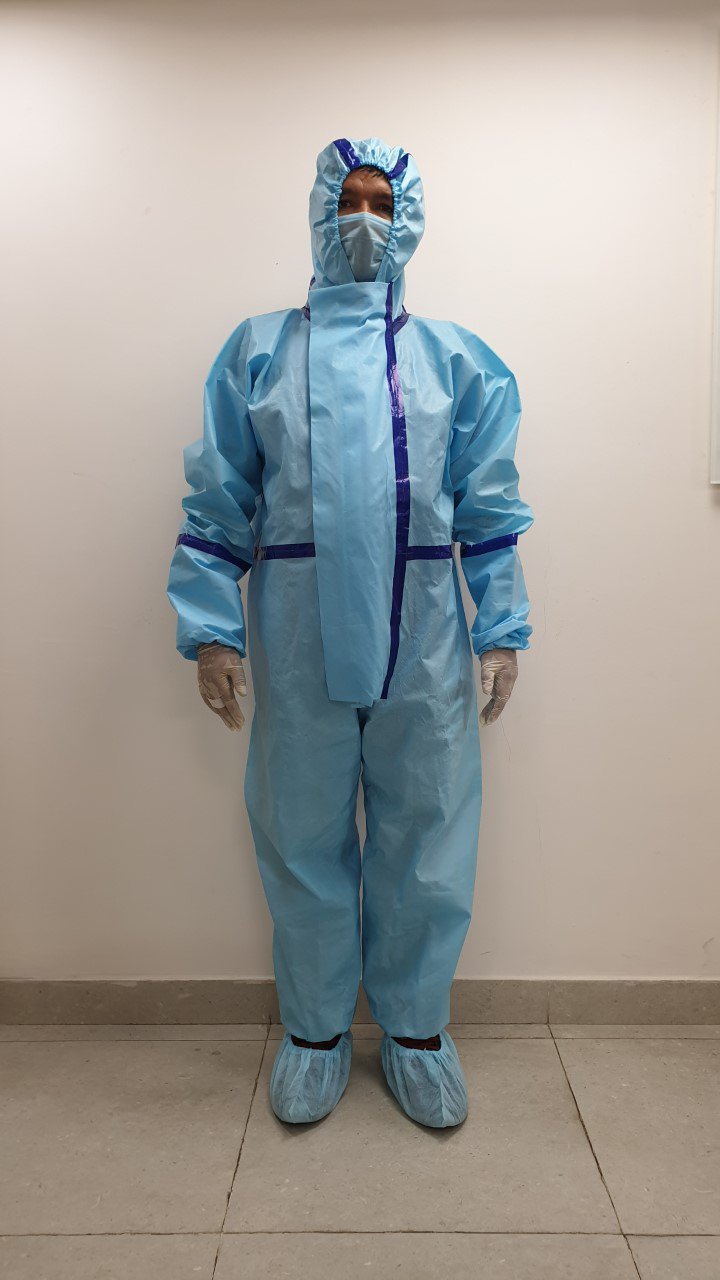Coverall: (172, 135, 536, 1087)
Gloves: (188, 621, 251, 729), (472, 623, 522, 727)
with_mask: (329, 204, 402, 286)
